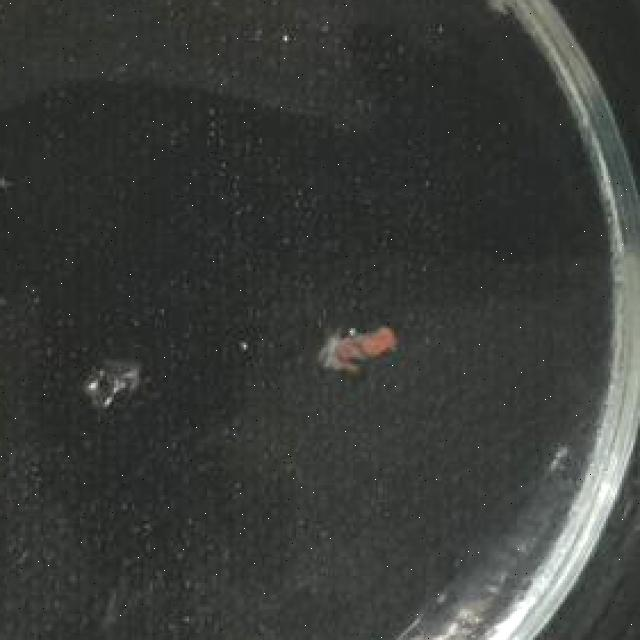Microplastic: (307, 272, 410, 404), (57, 331, 173, 447)
